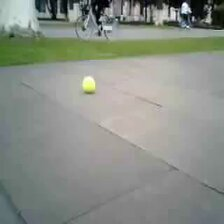tennis: (81, 75, 96, 94)
